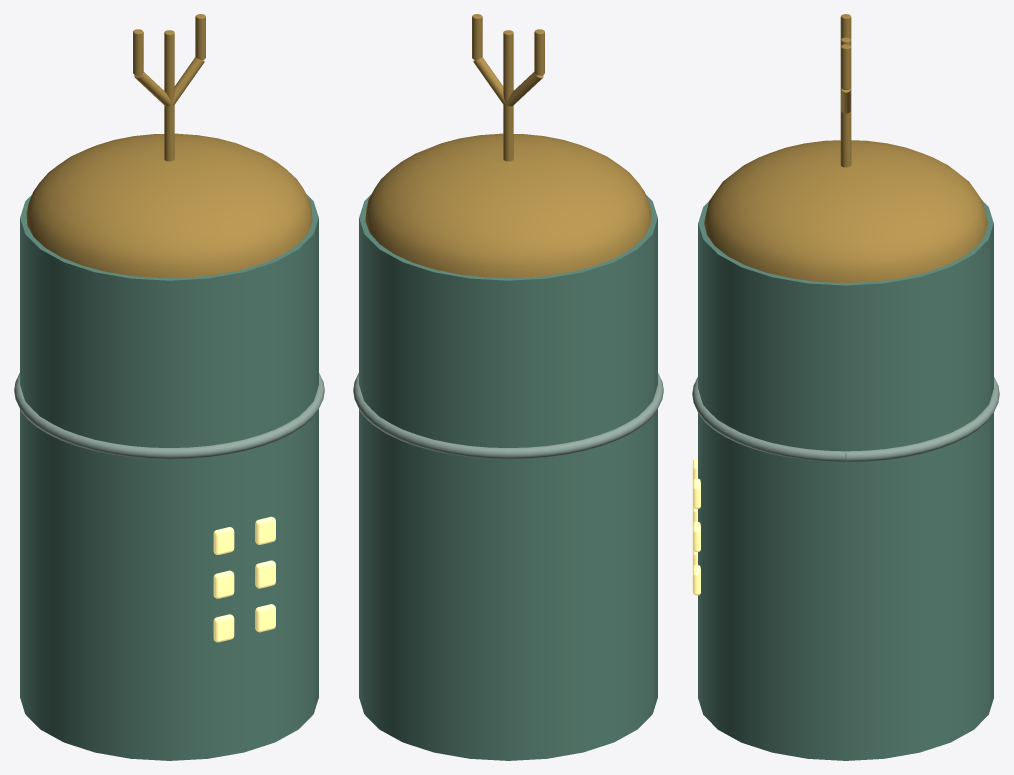
3 renders of one model, left to right at view 1: azimuth 30°, elevation 25°; view 2: azimuth 150°, elevation 25°; view 3: azimuth 270°, elevation 25°, orthographic.
Visible parts, largest first — view 1: Cylindrical tower, Tower crown, Tower seam, Aerial stem, Inset service window.002, Inset service window, Inset service window.004, Inset service window.003, Inset service window.005, Inset service window.001; view 2: Cylindrical tower, Tower crown, Tower seam, Aerial stem; view 3: Cylindrical tower, Tower crown, Tower seam, Aerial stem, Aerial fork tine.001.
Part boxes in pixels (box(x1,y1,x2,y2)): Cylindrical tower: box(20, 194, 318, 760); Tower crown: box(26, 133, 312, 277); Tower seam: box(14, 373, 324, 459); Aerial stem: box(164, 30, 174, 161); Inset service window.002: box(213, 570, 234, 598); Inset service window: box(213, 614, 234, 642); Inset service window.004: box(213, 527, 234, 554); Inset service window.003: box(255, 560, 275, 588); Inset service window.005: box(255, 516, 275, 544); Inset service window.001: box(255, 604, 275, 632); Cylindrical tower: box(359, 194, 657, 760); Tower crown: box(365, 133, 651, 277); Tower seam: box(353, 373, 663, 459); Aerial stem: box(503, 30, 513, 161); Cylindrical tower: box(698, 200, 993, 760); Tower crown: box(704, 140, 987, 282); Tower seam: box(692, 377, 999, 462); Aerial stem: box(840, 37, 851, 167); Aerial fork tine.001: box(840, 44, 851, 89).
Bounding box in the file's own units: 1.29 × 3.09 × 1.29.
